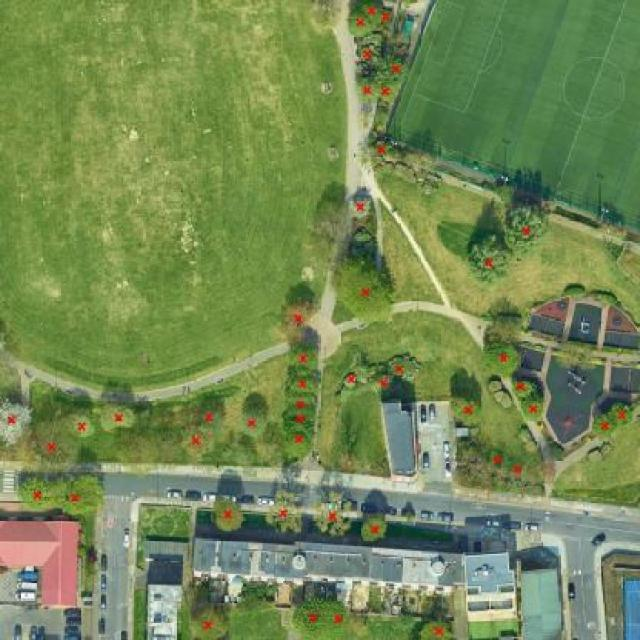tree: (324, 252, 408, 332), (114, 408, 200, 479), (457, 227, 518, 296), (14, 420, 86, 478), (501, 200, 554, 262), (272, 292, 328, 346), (61, 465, 110, 523), (11, 464, 67, 513), (312, 486, 356, 543), (263, 488, 303, 543), (94, 395, 143, 439), (204, 492, 250, 538), (482, 298, 530, 342), (0, 394, 38, 448), (293, 587, 330, 640), (476, 338, 527, 376), (186, 600, 234, 640), (177, 422, 215, 468), (446, 391, 486, 434), (63, 404, 102, 448), (186, 397, 228, 434), (280, 342, 329, 373), (273, 430, 319, 461), (234, 404, 271, 441), (358, 510, 394, 548), (410, 614, 462, 640), (378, 55, 414, 88), (358, 132, 402, 159), (385, 351, 423, 382), (550, 338, 584, 372), (281, 372, 325, 398), (372, 73, 402, 110), (274, 412, 324, 434), (366, 369, 399, 402), (346, 191, 380, 223), (341, 7, 374, 38), (330, 595, 353, 639), (281, 392, 327, 413), (348, 75, 378, 107), (486, 178, 517, 208), (353, 0, 385, 29), (610, 394, 633, 432), (589, 412, 617, 443), (575, 344, 602, 376), (518, 398, 550, 424), (350, 42, 379, 68), (484, 446, 508, 477), (507, 376, 539, 398), (371, 7, 402, 28), (511, 423, 535, 448), (337, 368, 361, 390), (506, 457, 528, 481)
